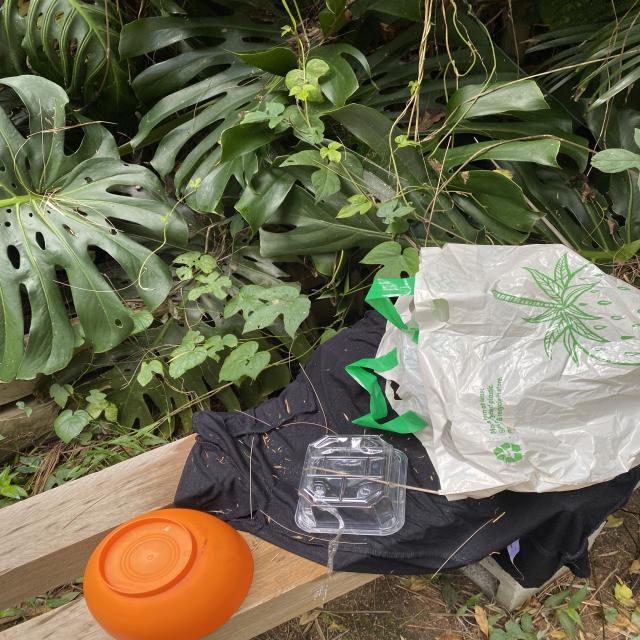bag: (346, 245, 640, 500)
bowl: (82, 508, 254, 640)
cup: (294, 435, 408, 536)
